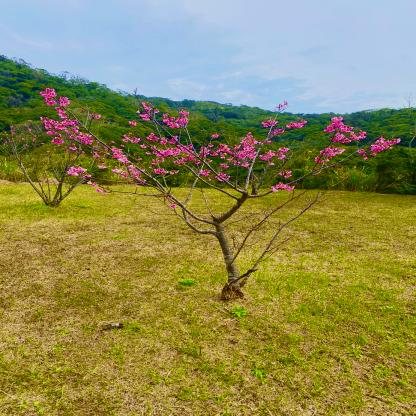KanhiSakura: (30, 88, 401, 225)
